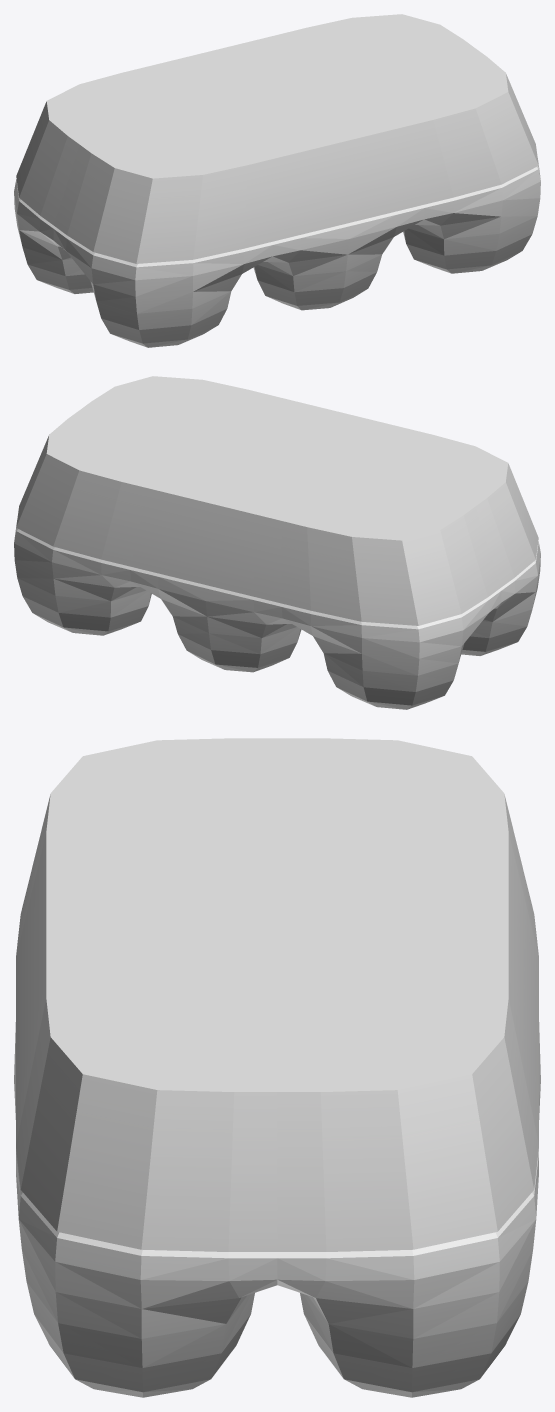
The model's file is eggscarton.fbx.
3 renders of one model, top to bottom at view 1: azimuth 30°, elevation 25°; view 2: azimuth 150°, elevation 25°; view 3: azimuth 270°, elevation 25°, orthographic. The views are drawn at different scales.
Parts seen in each view (by area): view 1: eggscarton_lid, eggscarton; view 2: eggscarton_lid, eggscarton; view 3: eggscarton_lid, eggscarton.
Boxes of the visible parts, x1,y1,x2,y2 form: eggscarton_lid: [16, 14, 538, 263]; eggscarton: [14, 158, 540, 347]; eggscarton_lid: [16, 376, 538, 625]; eggscarton: [14, 520, 540, 709]; eggscarton_lid: [16, 738, 538, 1251]; eggscarton: [14, 1022, 540, 1397].
Bounding box in the file's own units: 168 × 63.19 × 92.82.
